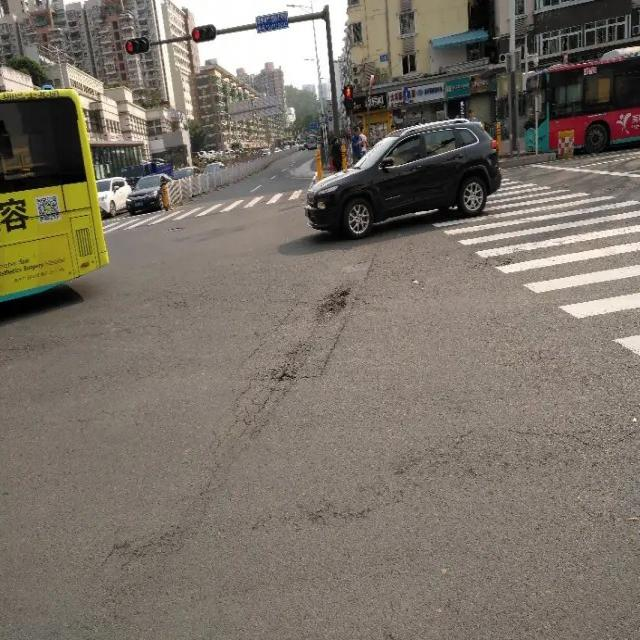Pothole: (302, 285, 353, 331)
